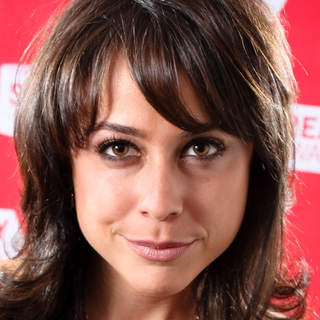eye: (173, 131, 229, 166), (92, 134, 147, 165)
